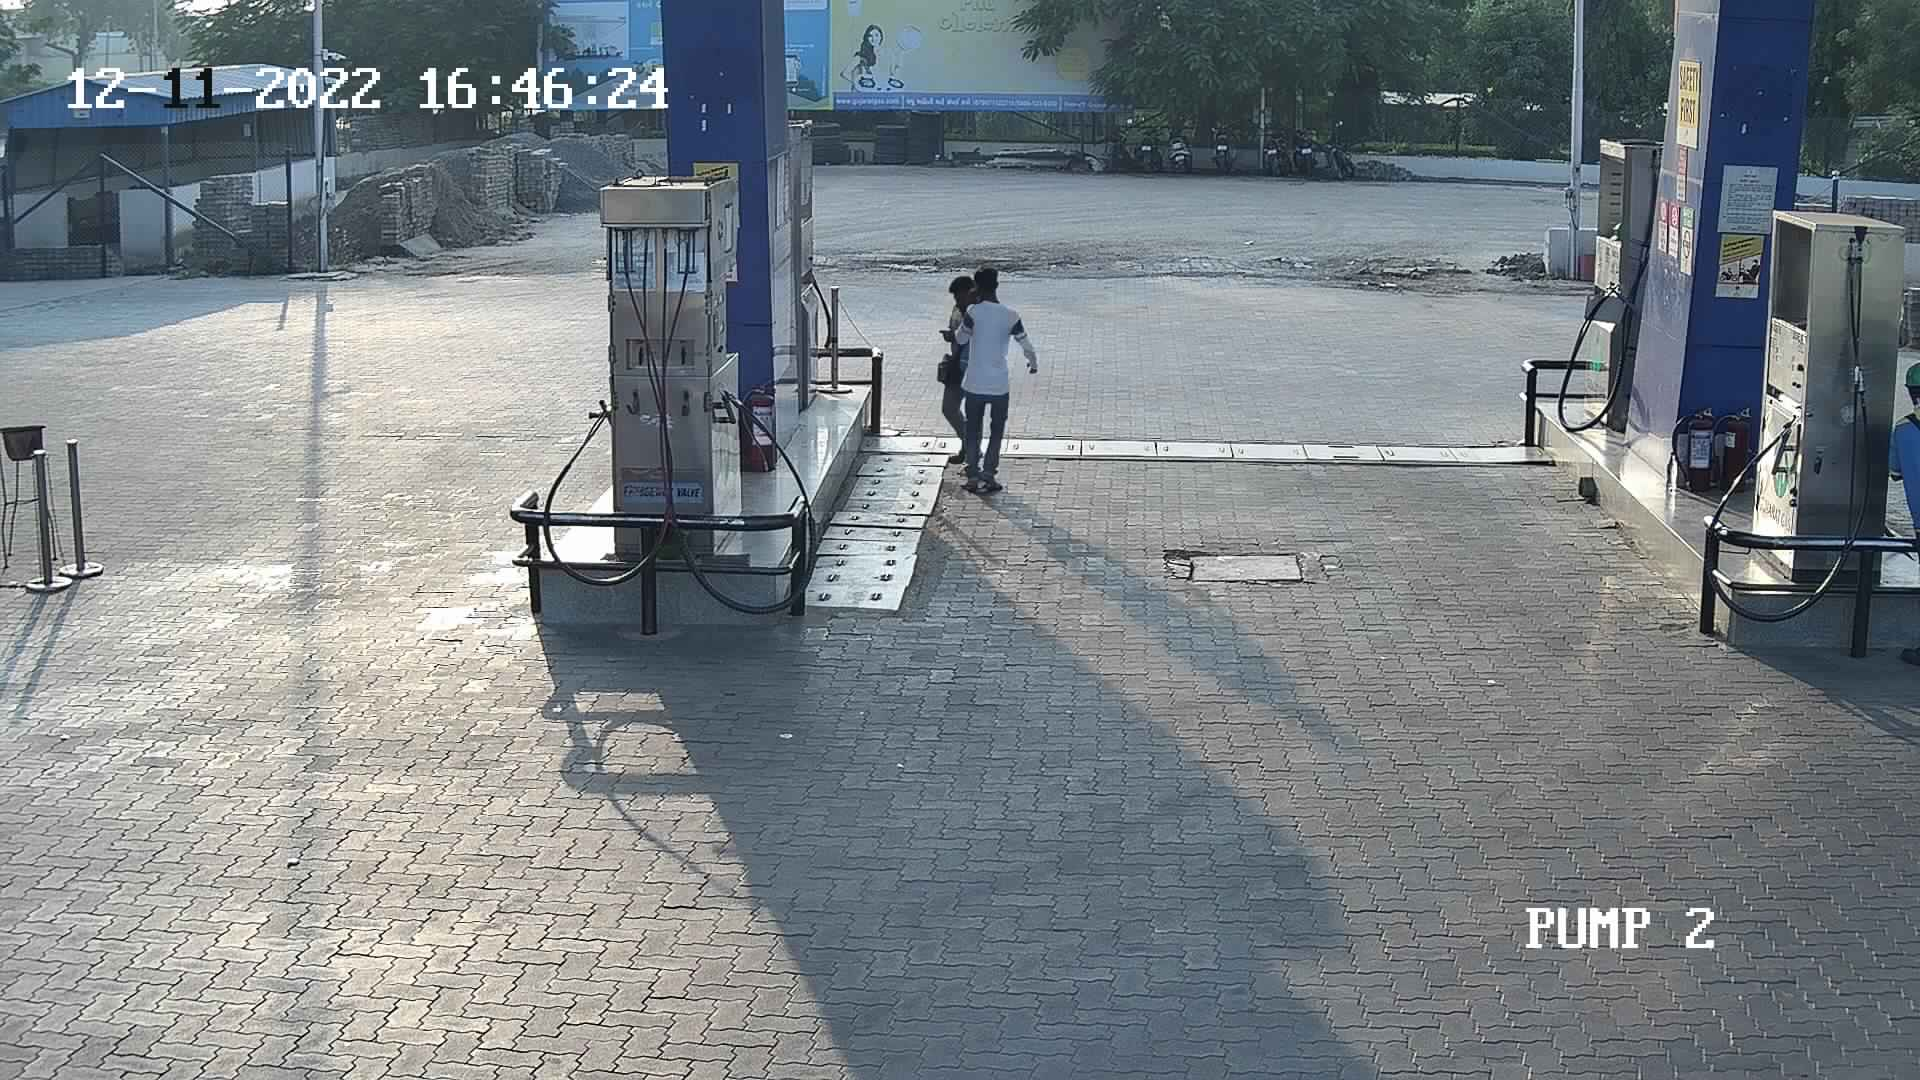Bike: (1290, 109, 1367, 179), (1155, 105, 1209, 171), (1203, 104, 1247, 175), (1124, 105, 1168, 175), (1283, 111, 1321, 177), (1255, 109, 1294, 175)
Others: (1867, 353, 1917, 686), (928, 269, 990, 465)
